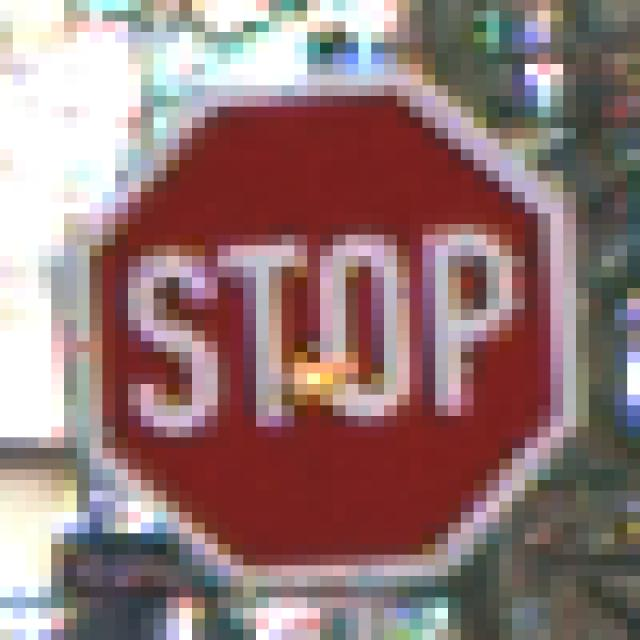STOP: (65, 54, 577, 588)
